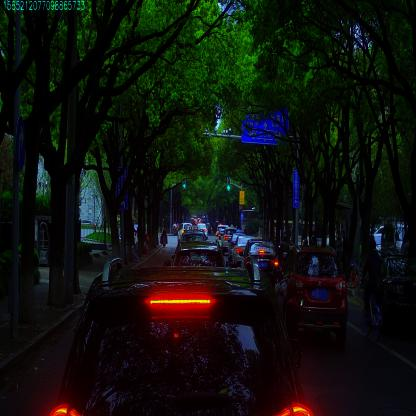traffic-light: (227, 176, 230, 190), (183, 176, 186, 188)
